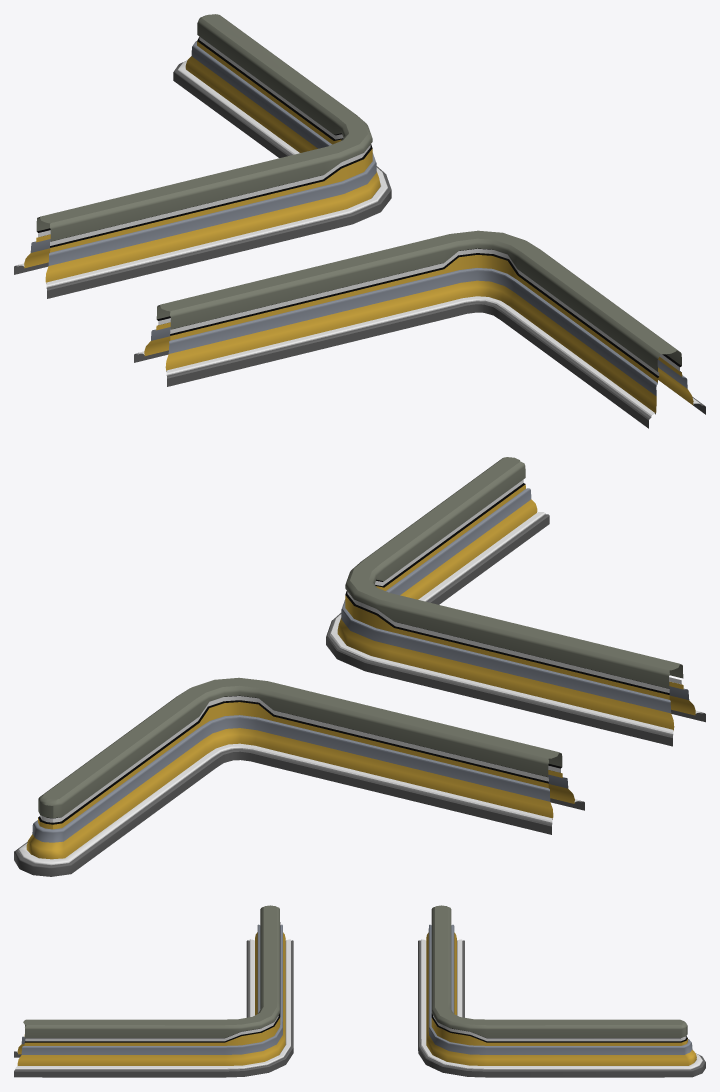
Rendered from Level14_Small_walls.fbx.
3 views of the same model, one above another, from view 1: azimuth 30°, elevation 25°; view 2: azimuth 150°, elevation 25°; view 3: azimuth 270°, elevation 25° (orthographic). The views are drawn at different scales.
Parts seen in each view (by area): view 1: Small_wall_L16, Small_wall_L17; view 2: Small_wall_L17, Small_wall_L16; view 3: Small_wall_L17, Small_wall_L16.
Boxes of the visible parts, x1,y1,x2,y2 form: Small_wall_L16: [134, 230, 705, 428]; Small_wall_L17: [14, 14, 391, 298]; Small_wall_L17: [14, 677, 584, 876]; Small_wall_L16: [326, 457, 705, 746]; Small_wall_L17: [418, 905, 705, 1077]; Small_wall_L16: [14, 905, 293, 1077].
Bounding box in the file's own units: 227 × 37.08 × 507.
